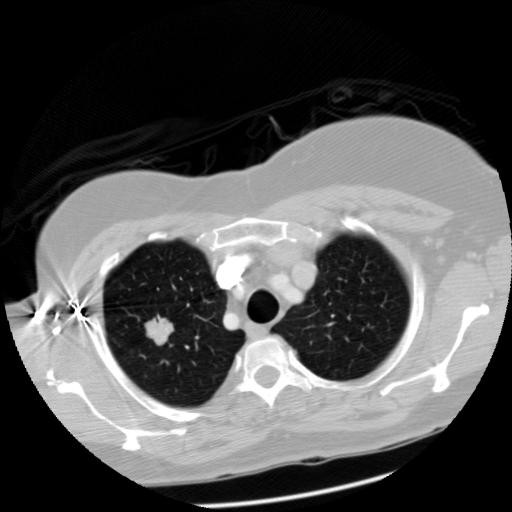nodule: (144, 313, 179, 348)
